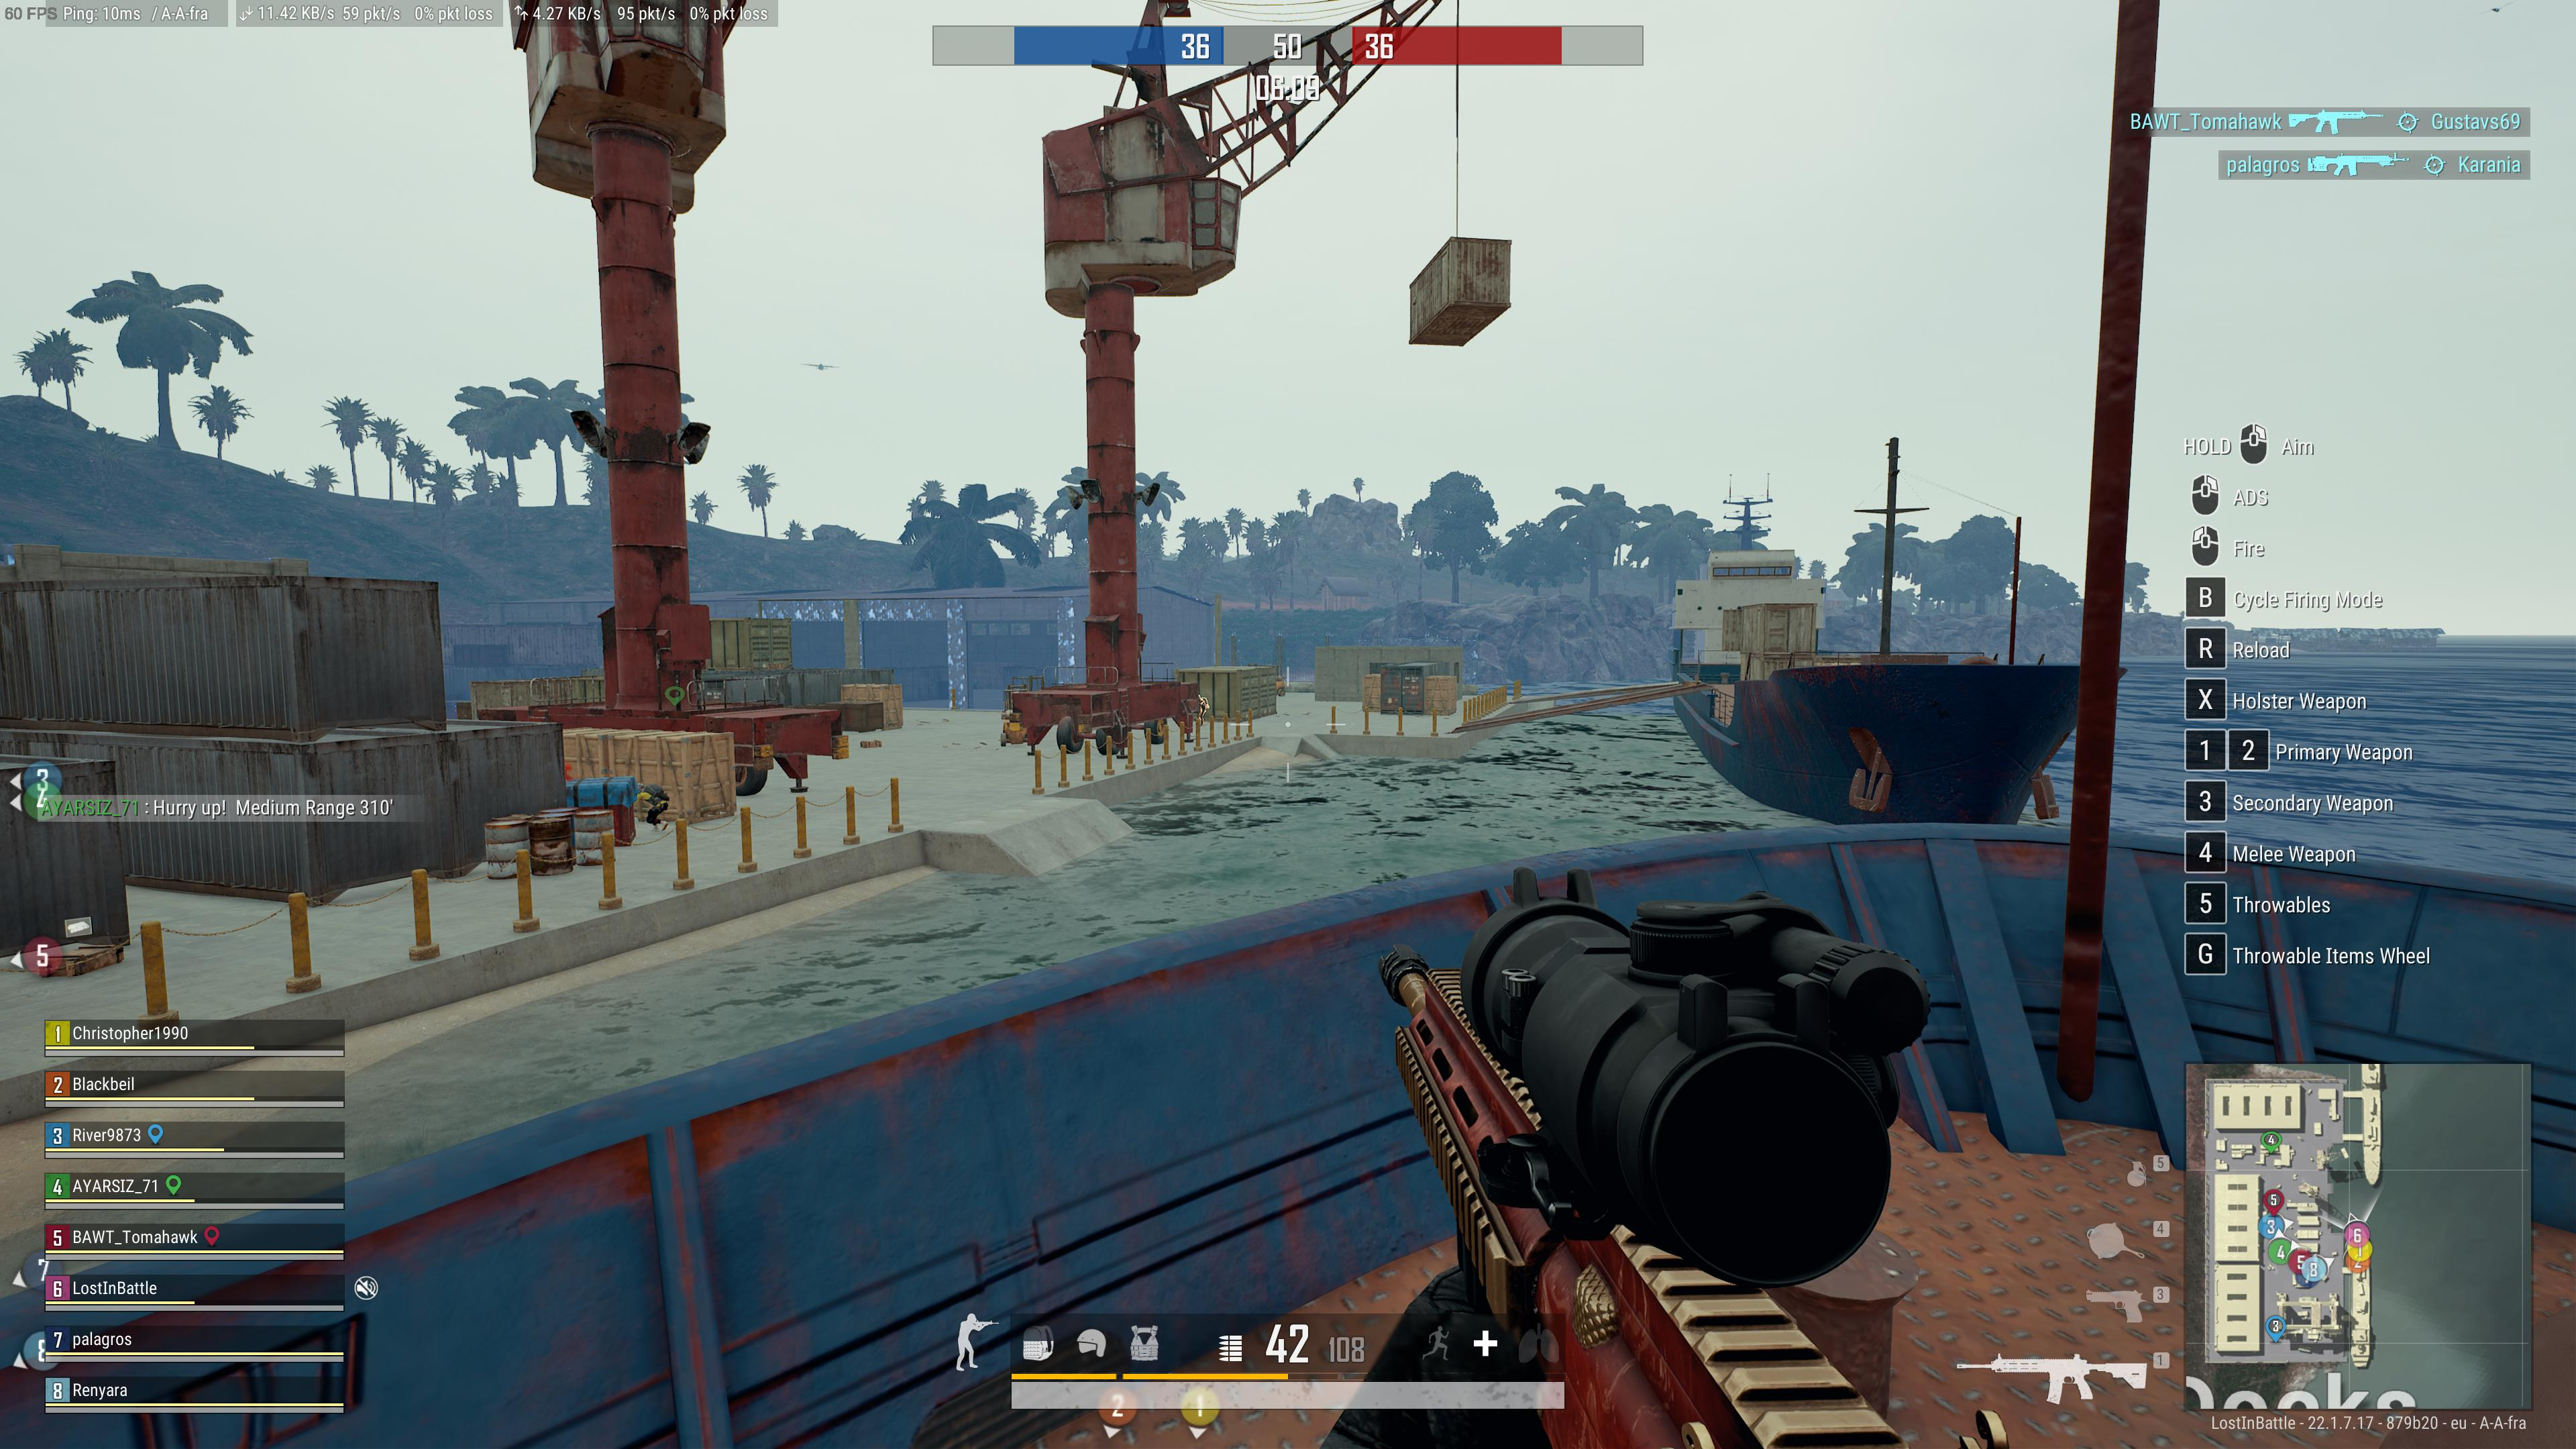enemy: (635, 782, 669, 832), (1198, 692, 1208, 725)
enemy_head: (635, 782, 644, 791)
